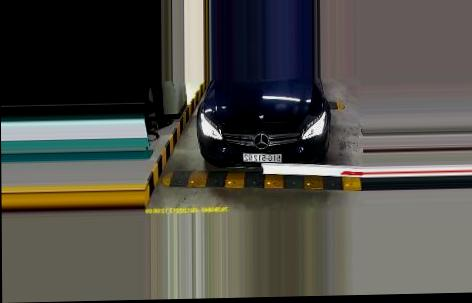License_Plate: (239, 151, 281, 164)
